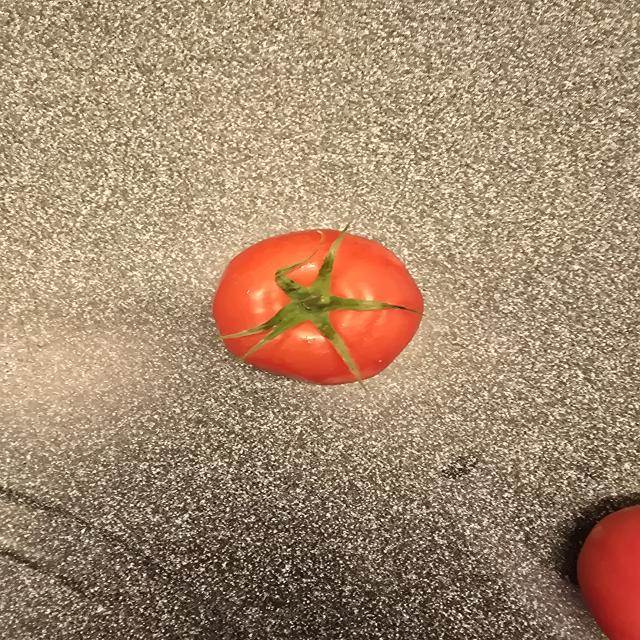Tomato: (213, 229, 423, 385)
